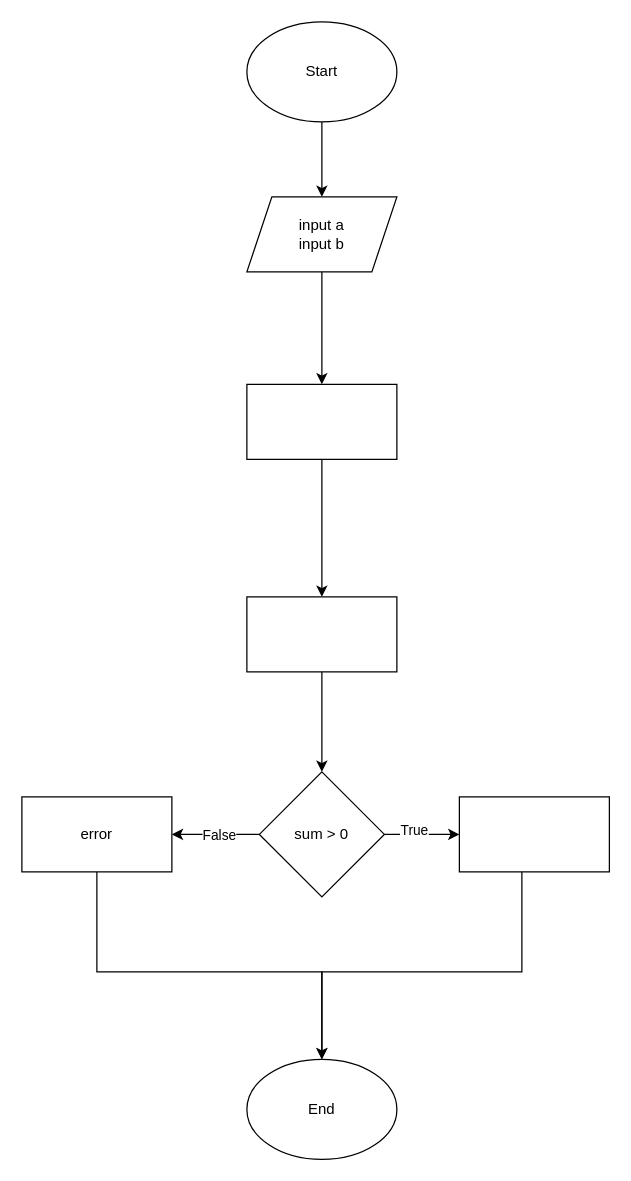
This 631x1181 diagram has some shape labels left out. Each missing label, with the centre of its shape:
average = sum / 2: pixel 533 834
sum = 0 average = 0: pixel 321 421
sum = sum + a + b: pixel 321 634
